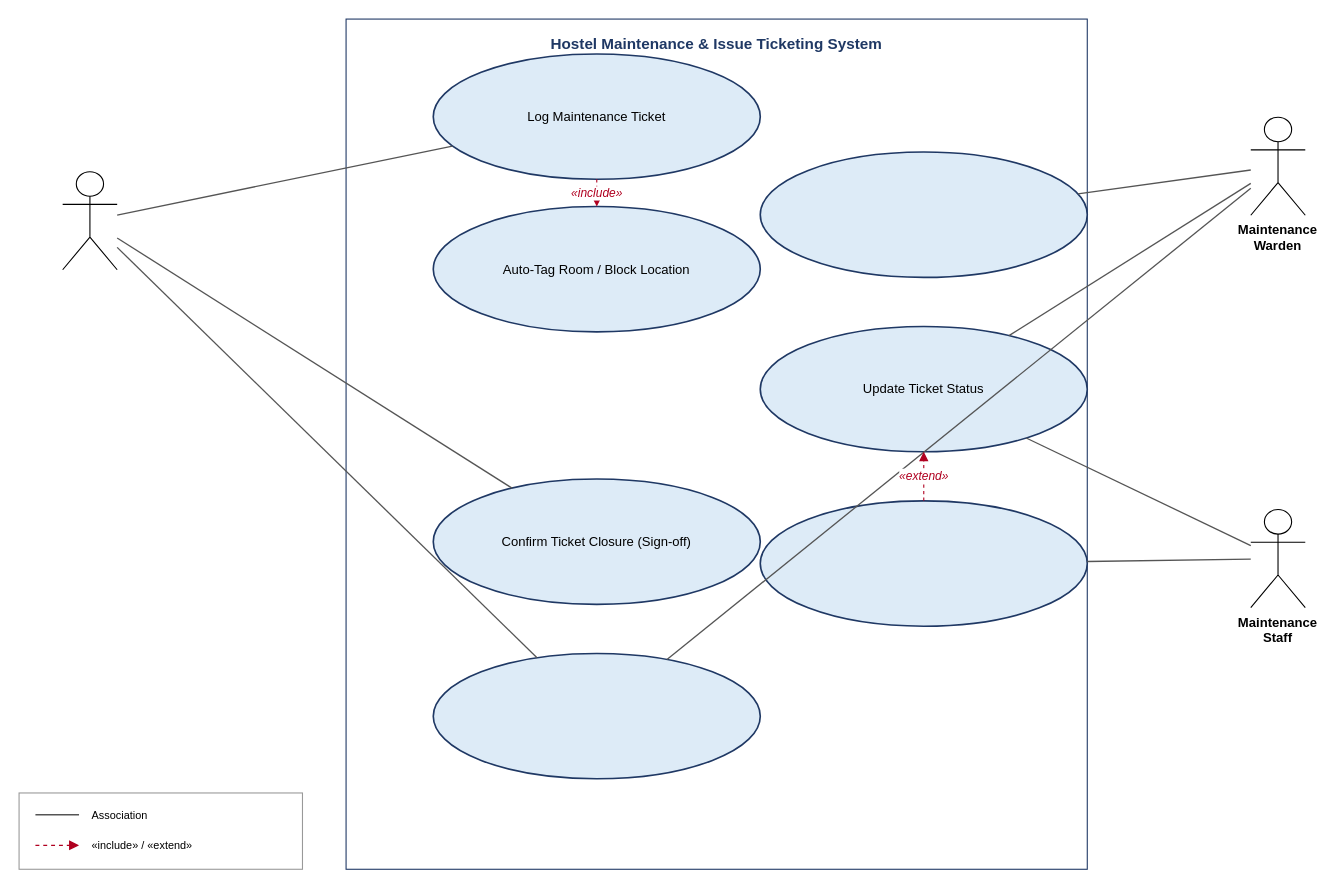
The diagram is 1336 pixels wide and 888 high, and some of its shapes have lost their labels. The centre of each missing label's shape, as x and y in pixels:
"Assign Ticket to Staff" goes at point 923,214.
"Hostel Resident" goes at point 89,220.
"Send SLA Escalation Alert" goes at point 923,563.
"View Ticket History" goes at point 596,715.
